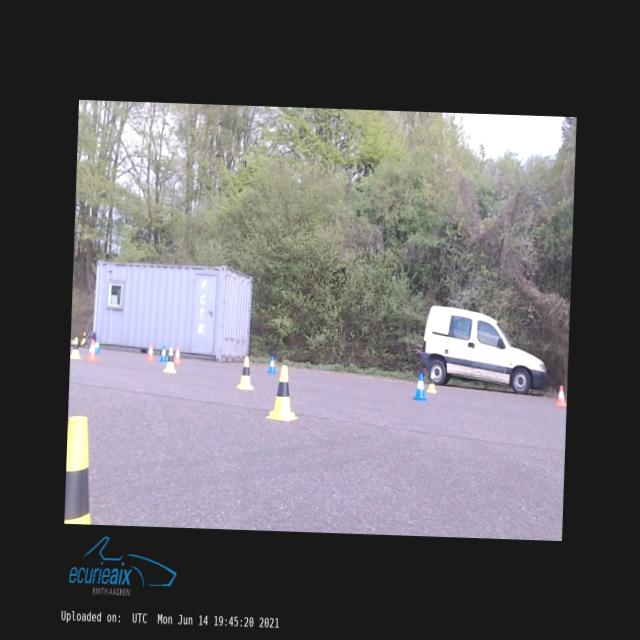blue_cone: (414, 373, 426, 400), (159, 344, 168, 362), (268, 356, 276, 374), (94, 338, 100, 352)
orange_cone: (86, 339, 98, 361), (556, 384, 566, 406), (146, 342, 155, 360), (173, 347, 181, 362)
yellow_cone: (64, 415, 94, 523), (265, 364, 299, 421), (236, 356, 254, 390), (163, 347, 176, 373), (70, 337, 82, 358), (426, 372, 437, 392), (82, 332, 85, 344)
